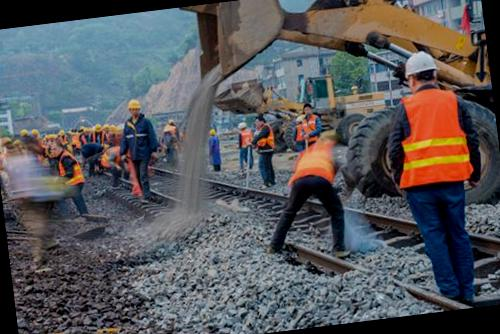no_helmet: (298, 100, 316, 118), (252, 112, 268, 130)
